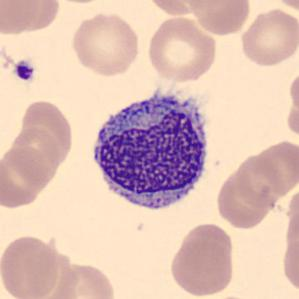Monocyte: (85, 81, 216, 219)
Platelets: (12, 58, 37, 84)
RBC: (218, 154, 288, 230), (144, 15, 220, 83), (69, 9, 142, 77), (168, 232, 237, 298), (0, 232, 61, 299), (18, 97, 76, 166), (3, 122, 64, 186), (238, 7, 298, 68), (234, 147, 296, 206), (0, 143, 53, 210), (41, 260, 119, 299), (174, 221, 236, 265), (186, 0, 252, 36), (0, 0, 64, 37), (256, 138, 299, 193), (142, 0, 224, 17), (280, 235, 299, 295), (288, 68, 299, 133), (46, 0, 114, 6), (270, 0, 299, 14)
